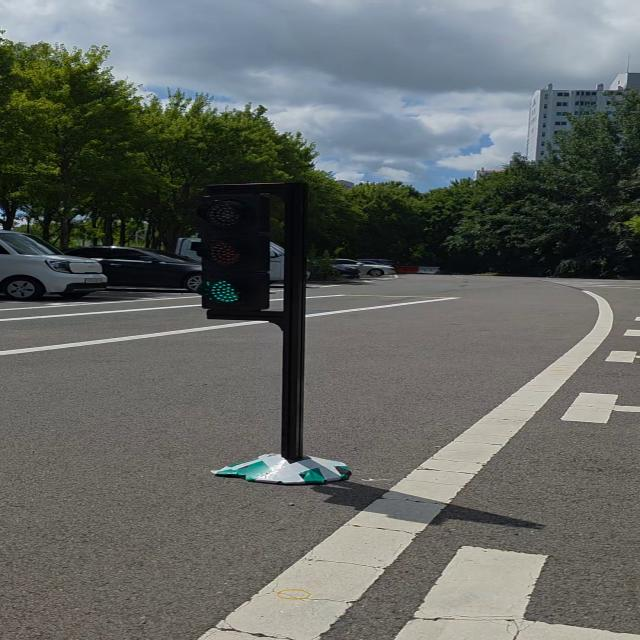green: (194, 188, 268, 322)
